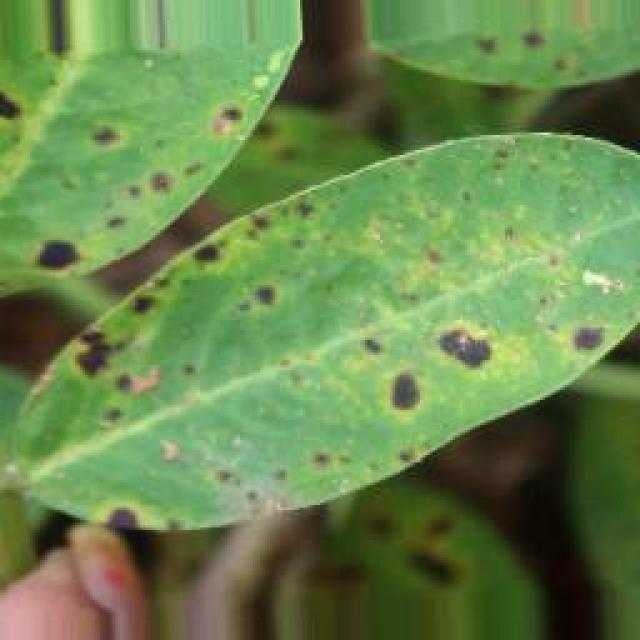Yellowish: (0, 28, 640, 577)
